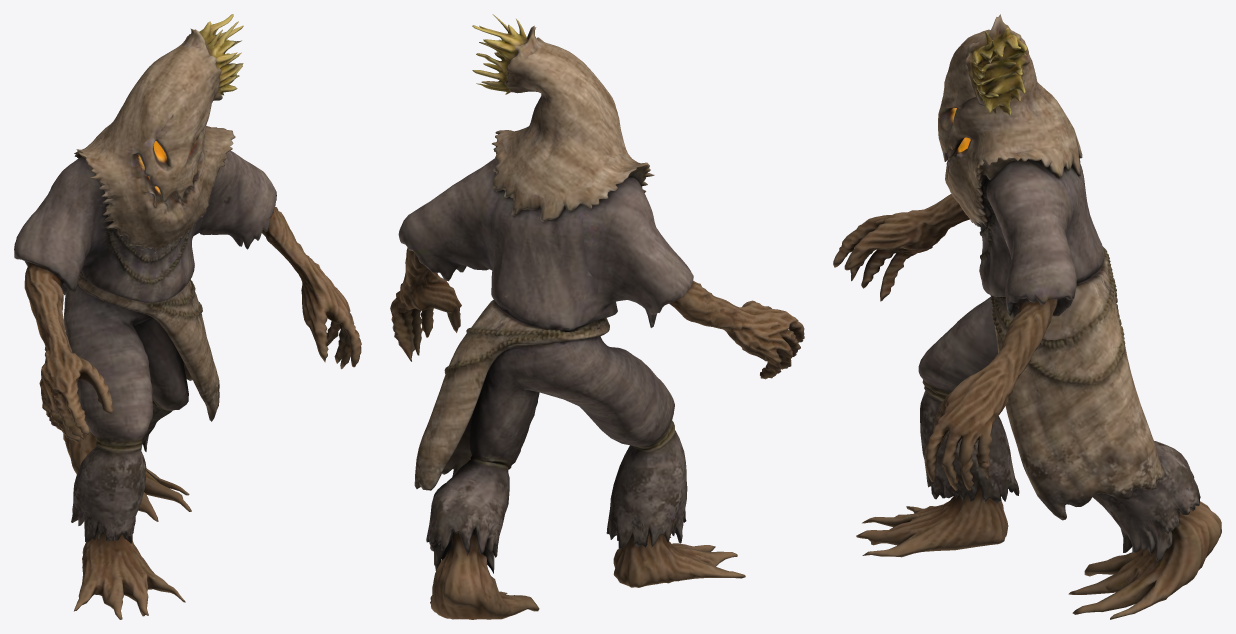
Rendered from MZ4250 - Scarecrow.glb.
3 renders of one model, left to right at view 1: azimuth 30°, elevation 25°; view 2: azimuth 150°, elevation 25°; view 3: azimuth 270°, elevation 25°, orthographic. The views are drawn at different scales.
Visible parts, largest first — view 1: Body.002; view 2: Body.002; view 3: Body.002.
Boxes of the visible parts, x1=… form: Body.002: x1=14, y1=14, x2=361, y2=619; Body.002: x1=390, y1=14, x2=804, y2=619; Body.002: x1=833, y1=14, x2=1221, y2=619.
Size of the model in its own units: 0.7104 by 1.05 by 0.6293.
1 material, 1 textured.
